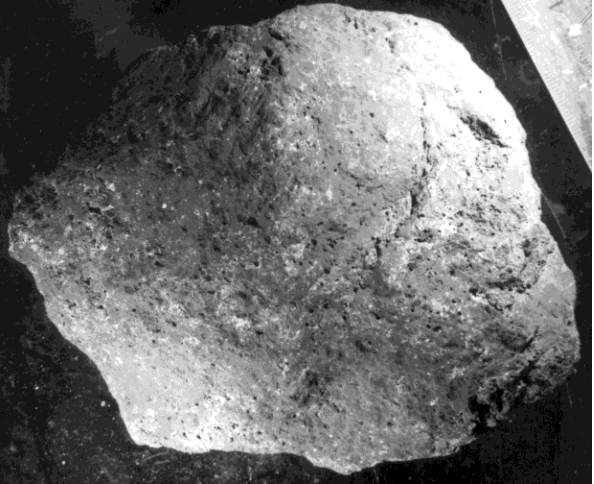Basalt: (12, 69, 558, 444), (234, 196, 553, 419)
